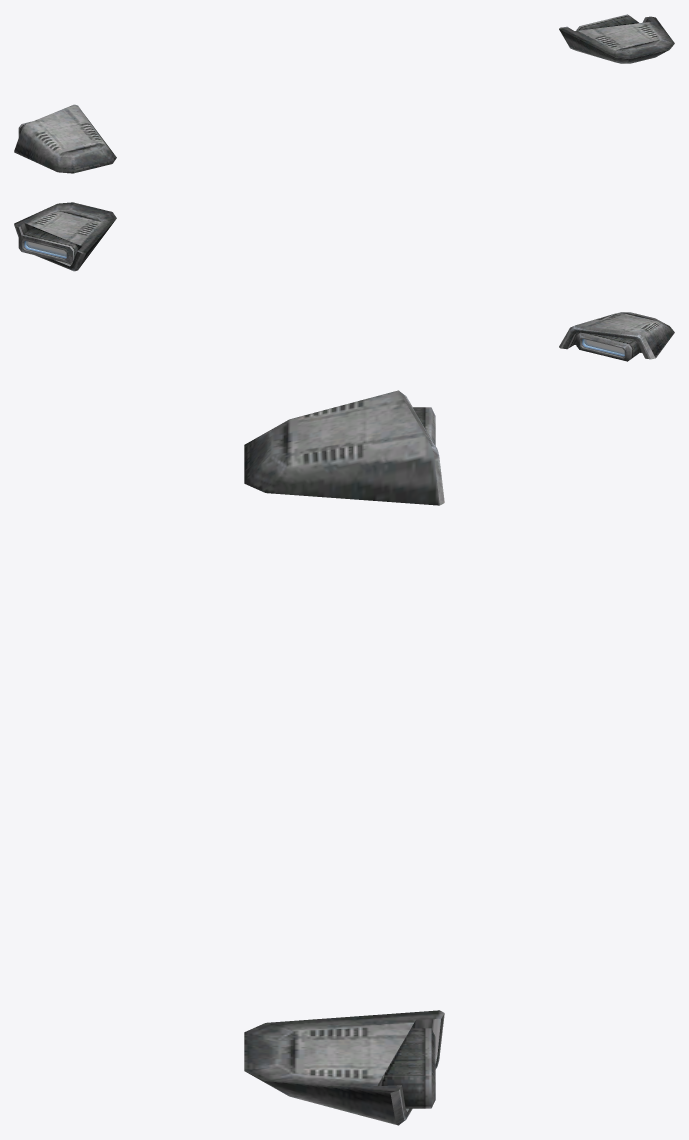
Rendered from xwing_booster_pos_s01_l0.fbx.
The picture shows the model from 3 angles, top to bottom: view 1: azimuth 30°, elevation 25°; view 2: azimuth 150°, elevation 25°; view 3: azimuth 270°, elevation 25°; orthographic projection. The views are drawn at different scales.
Parts seen in each view (by area): view 1: mesh_node; view 2: mesh_node; view 3: mesh_node.
Part boxes in pixels (left/top/right/bottom): mesh_node: left=14, top=14, right=674, bottom=173; mesh_node: left=14, top=202, right=674, bottom=361; mesh_node: left=244, top=390, right=444, bottom=1125.
Bounding box in the file's own units: 8.63 × 0.8791 × 1.17.
